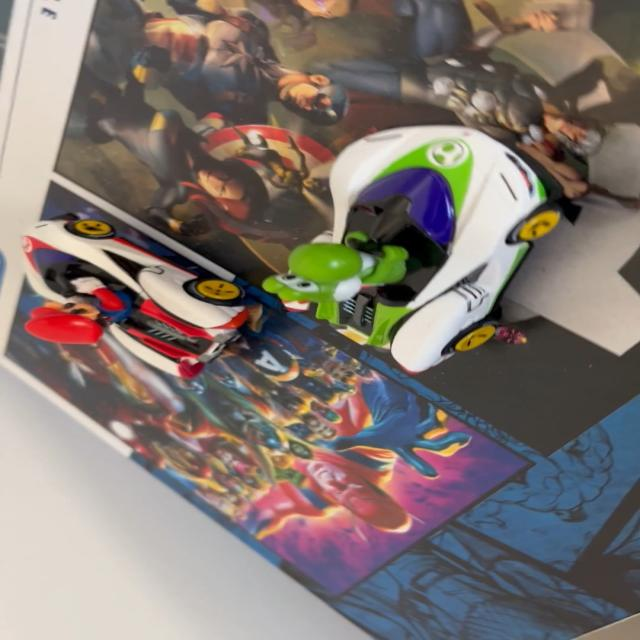mario: (9, 200, 264, 387)
yoshi: (252, 106, 586, 392)
